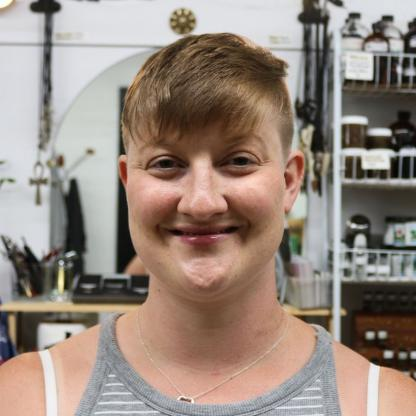sem_capacete: (112, 27, 313, 309)
sem_colete_refletivo: (0, 306, 416, 416)
